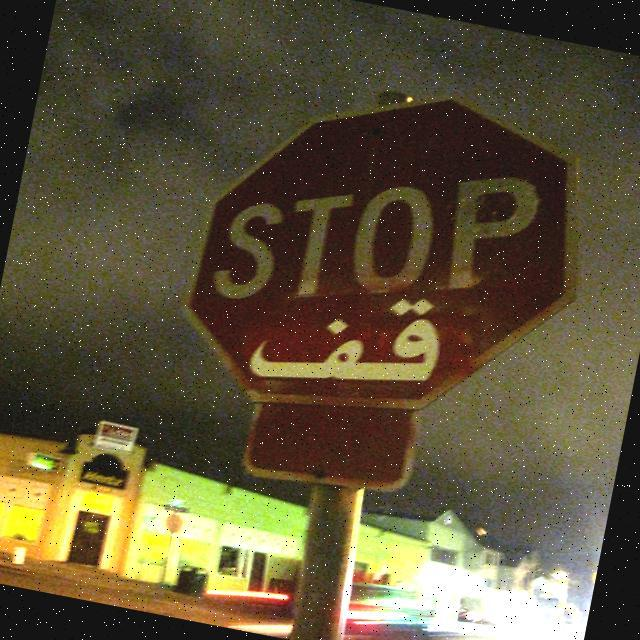fire_hydrant: (8, 532, 30, 566)
